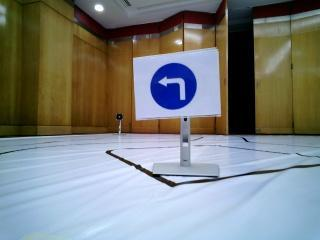left: (133, 57, 217, 119)
